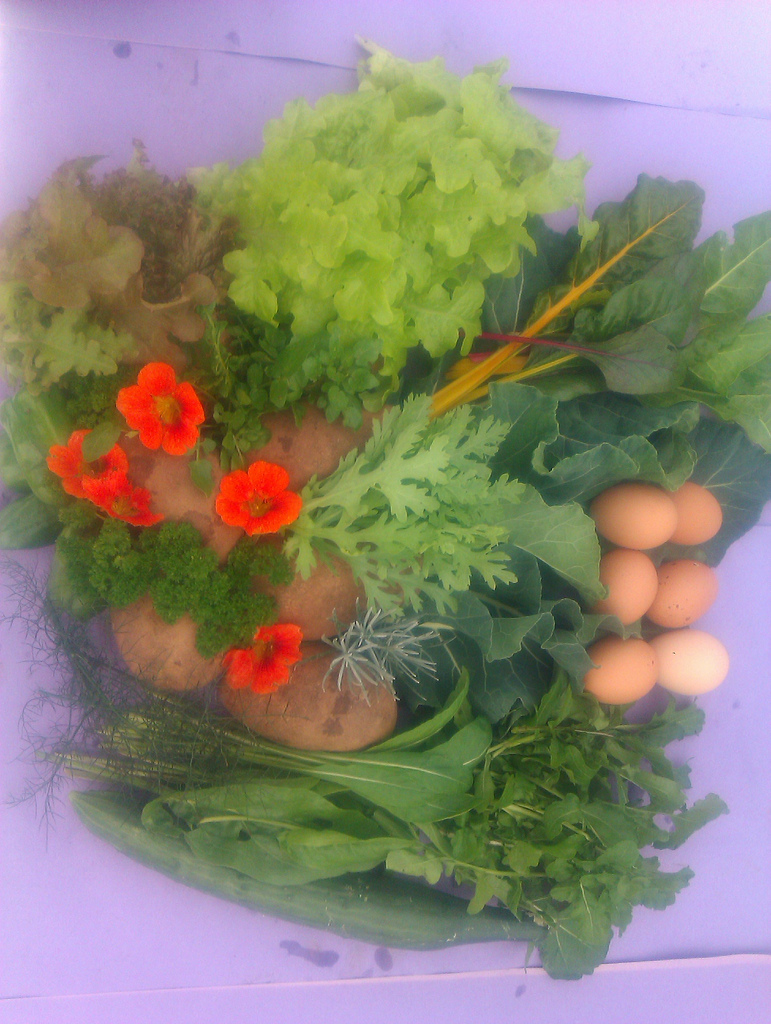chopped lettuce: (222, 75, 591, 418), (405, 683, 694, 975), (360, 366, 589, 722)
